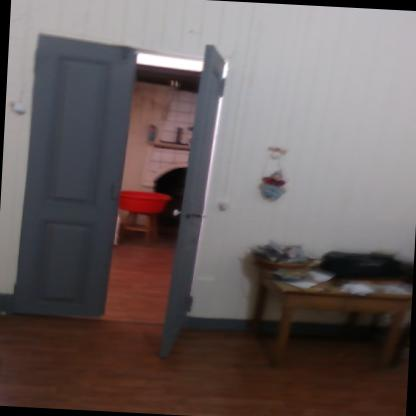semi: (4, 28, 226, 344)
